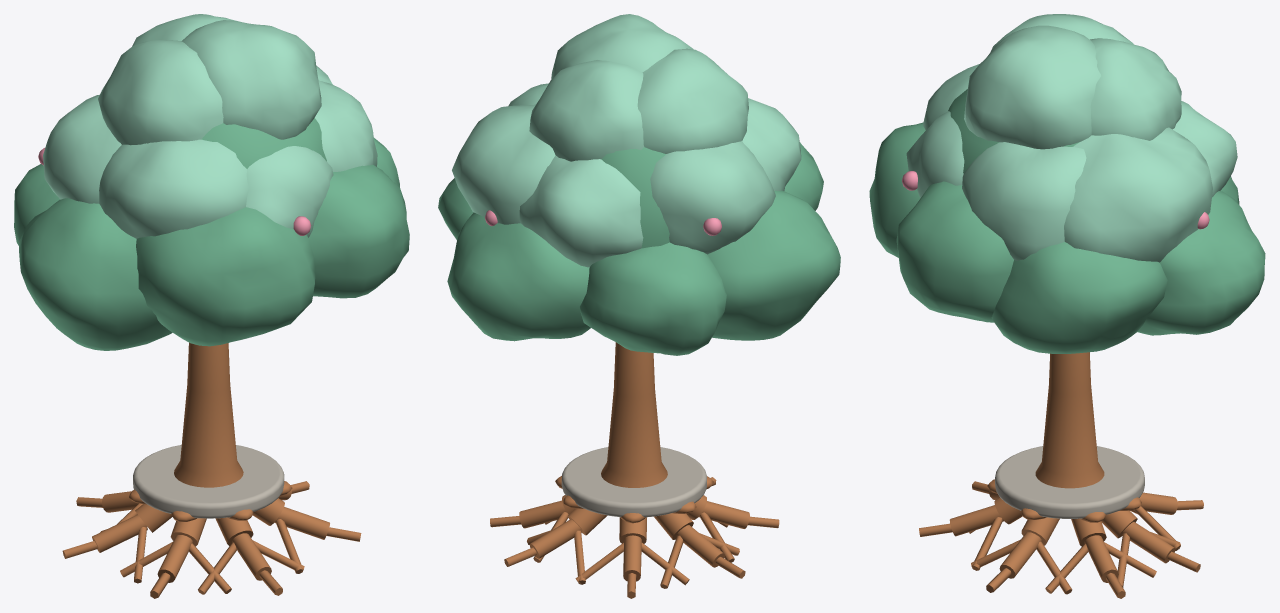
The model's file is tree_big.glb.
3 renders of one model, left to right at view 1: azimuth 30°, elevation 25°; view 2: azimuth 150°, elevation 25°; view 3: azimuth 270°, elevation 25°, orthographic. The views are drawn at different scales.
Visible parts, largest first — view 1: tree_big; view 2: tree_big; view 3: tree_big.
Part boxes in pixels (x1,y1,x2,y2): tree_big: (14,14,409,598); tree_big: (438,14,840,598); tree_big: (869,14,1265,598).
Bounding box in the file's own units: 5.18 × 6.89 × 4.74.
Materials: 1 (1 with a texture image).
